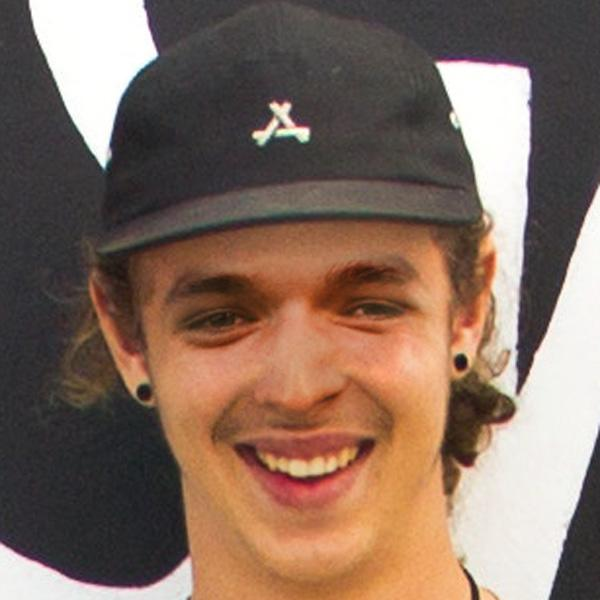Eyes: (171, 286, 265, 355), (324, 275, 418, 339)
